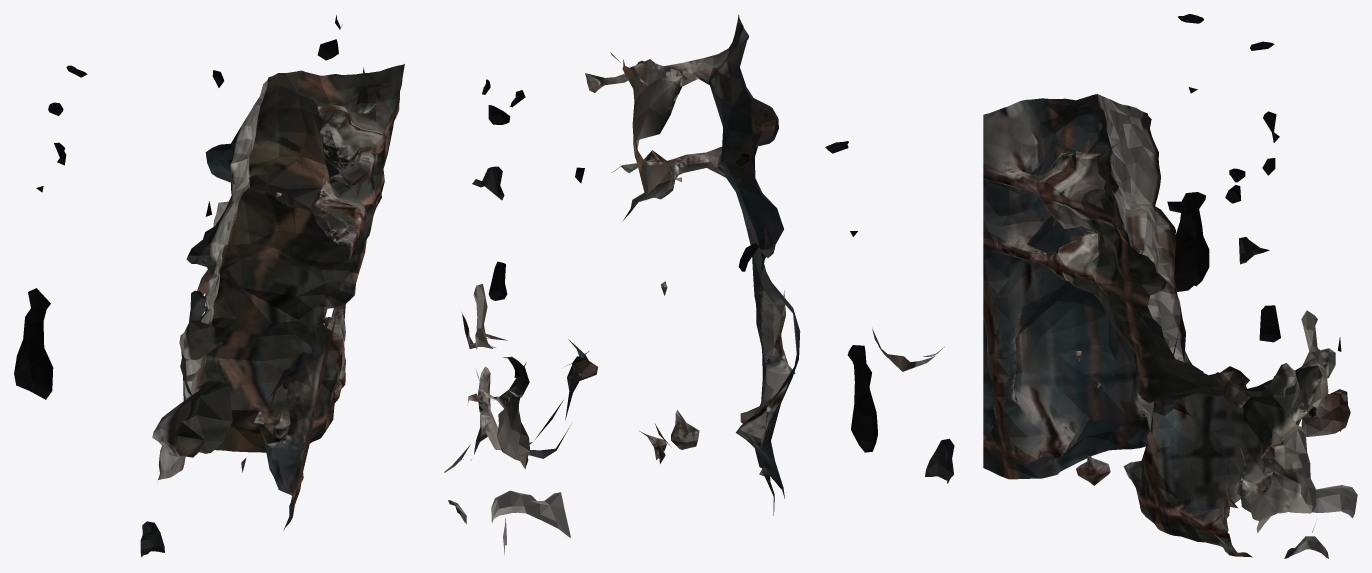
3 views of the same model, side by side, from view 1: azimuth 30°, elevation 25°; view 2: azimuth 150°, elevation 25°; view 3: azimuth 270°, elevation 25° (orthographic). The views are drawn at different scales.
Size of the model in its own units: 0.797 by 0.8374 by 0.7331.
4 materials, 4 textured.
